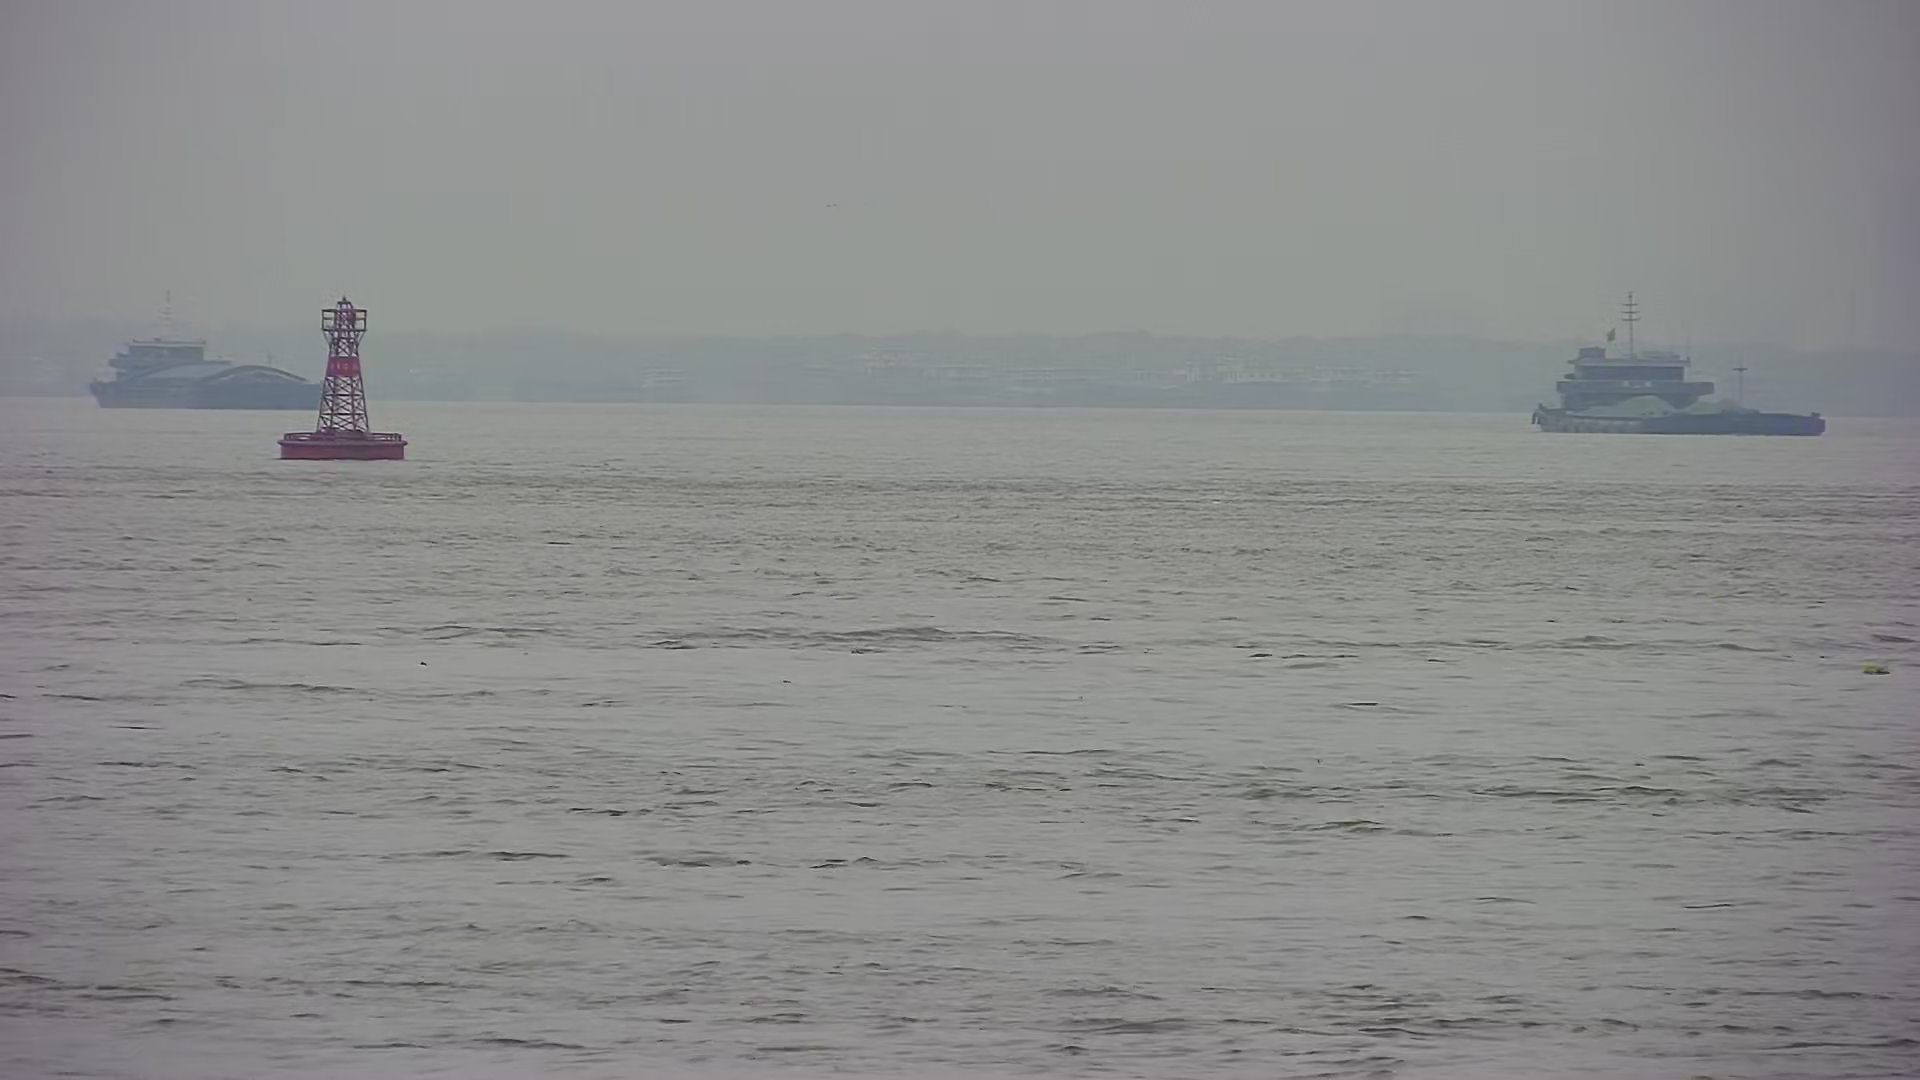buoy: (265, 284, 425, 472)
ship: (1522, 289, 1840, 451), (74, 280, 339, 411)
